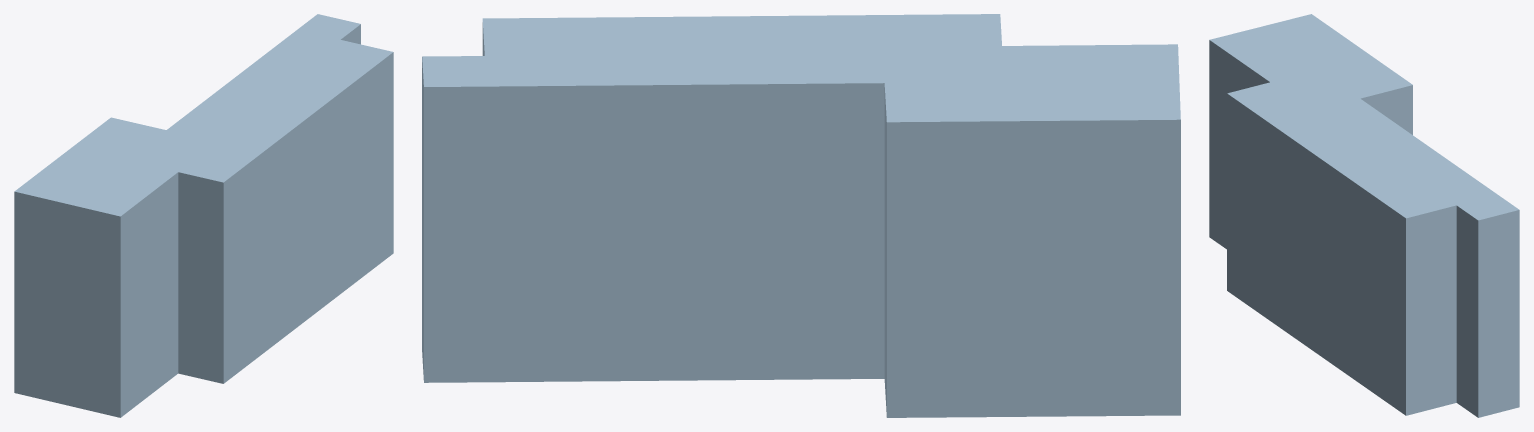
The model's file is osm_way_225255194.glb.
The picture shows the model from 3 angles, left to right: view 1: azimuth 30°, elevation 25°; view 2: azimuth 150°, elevation 25°; view 3: azimuth 270°, elevation 25°; orthographic projection. The views are drawn at different scales.
Visible parts, largest first — view 1: osm_way_225255194; view 2: osm_way_225255194; view 3: osm_way_225255194.
Boxes of the visible parts, x1=… form: osm_way_225255194: x1=14, y1=14, x2=393, y2=417; osm_way_225255194: x1=422, y1=14, x2=1180, y2=417; osm_way_225255194: x1=1209, y1=14, x2=1519, y2=417.
Size of the model in its own units: 43.07 by 19.2 by 27.34.
